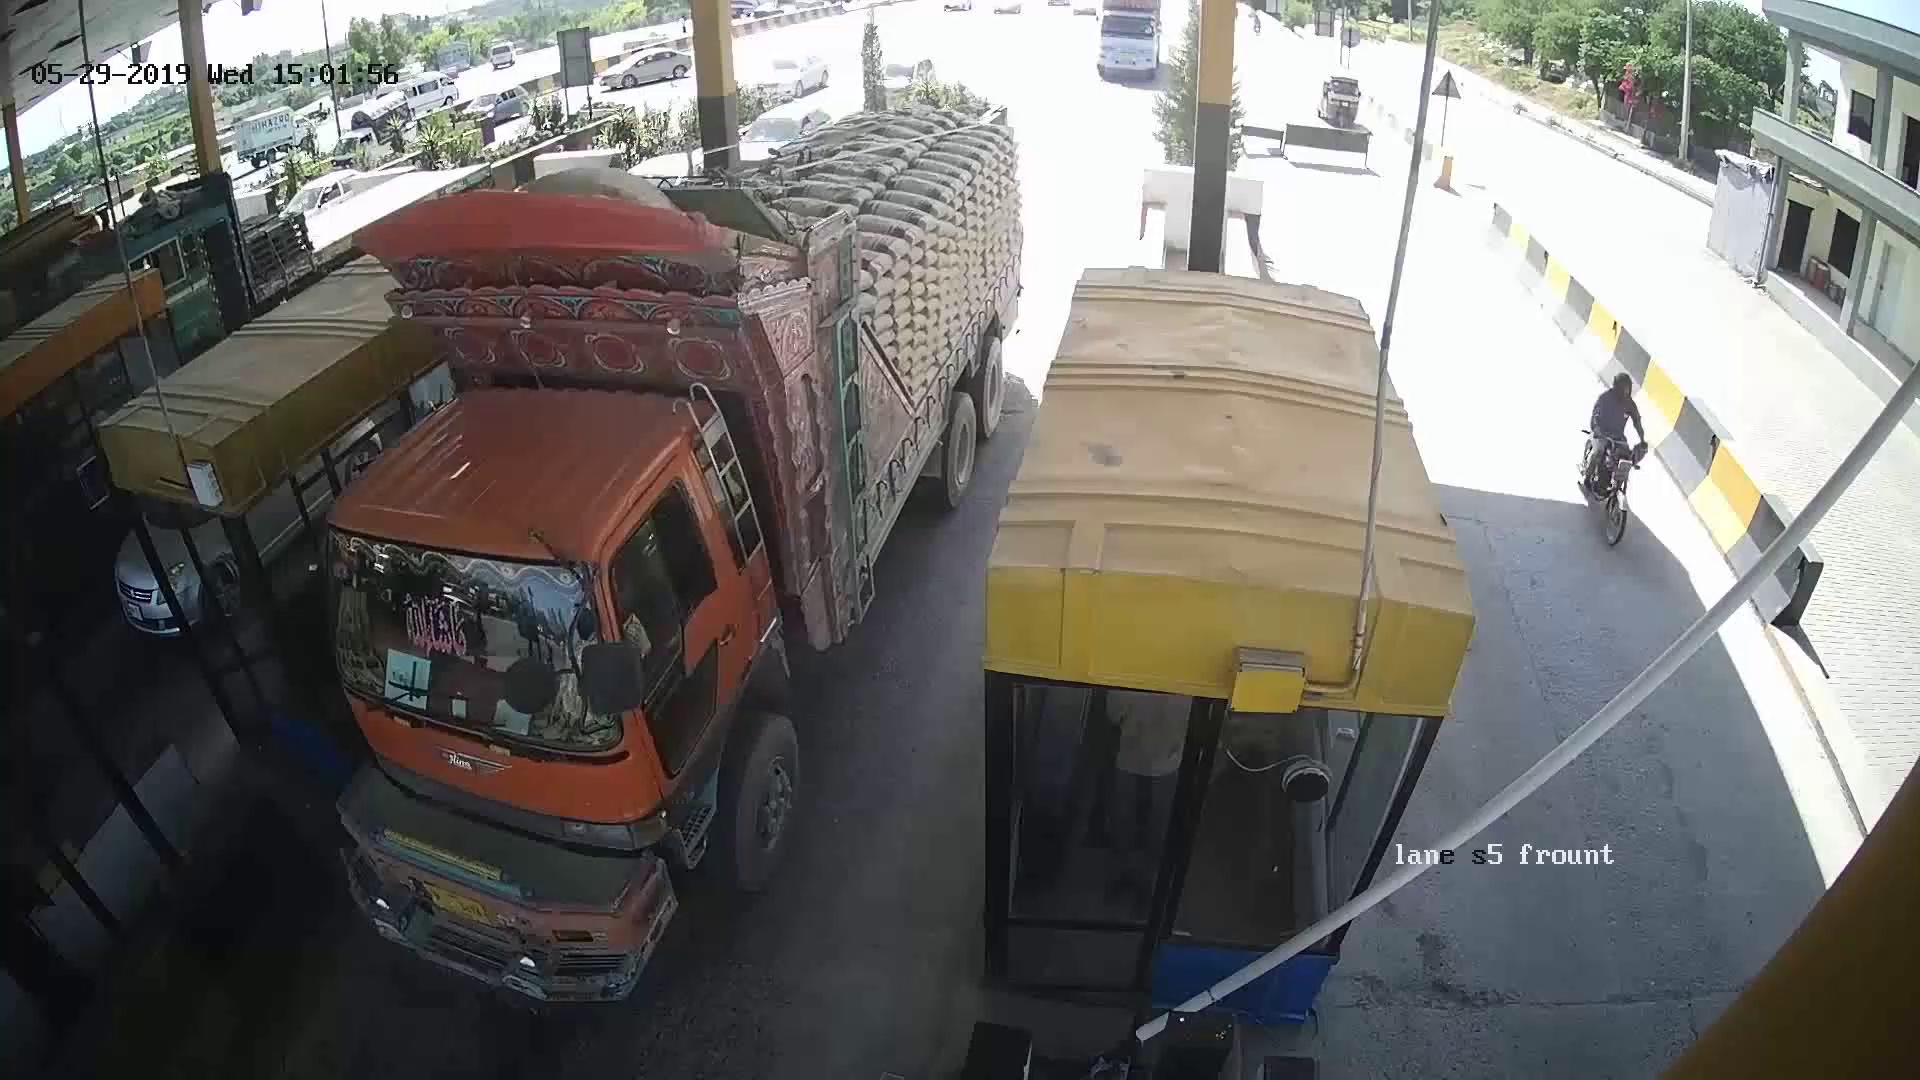truck: (567, 214, 977, 783)
